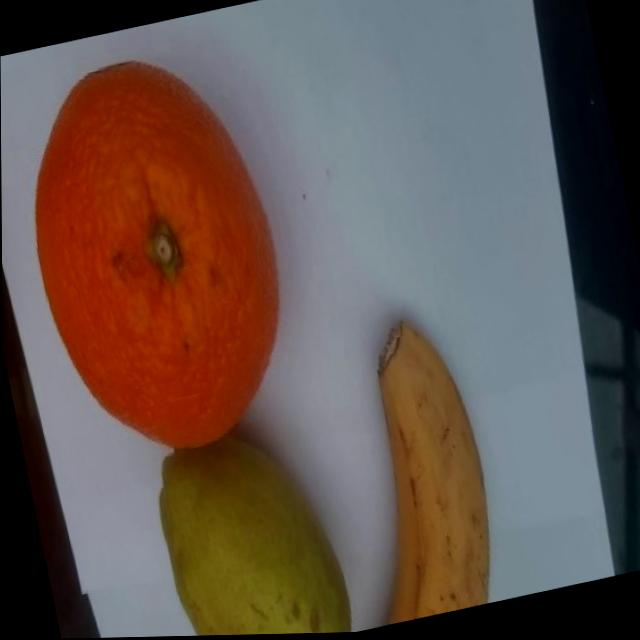Banana: (329, 310, 508, 627)
Orange: (3, 37, 310, 474)
